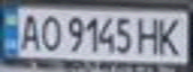1: (81, 14, 100, 53)
4: (97, 14, 118, 53)
5: (115, 13, 136, 55)
9: (63, 12, 84, 53)
A: (15, 10, 42, 52)
H: (136, 14, 163, 56)
K: (154, 15, 187, 56)
O: (36, 12, 63, 52)
